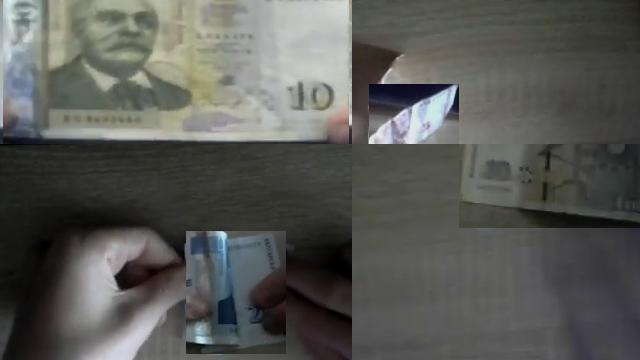10leva: (3, 0, 349, 144), (459, 144, 640, 227)
20leva: (186, 231, 286, 354)
5leva: (370, 84, 459, 144)
